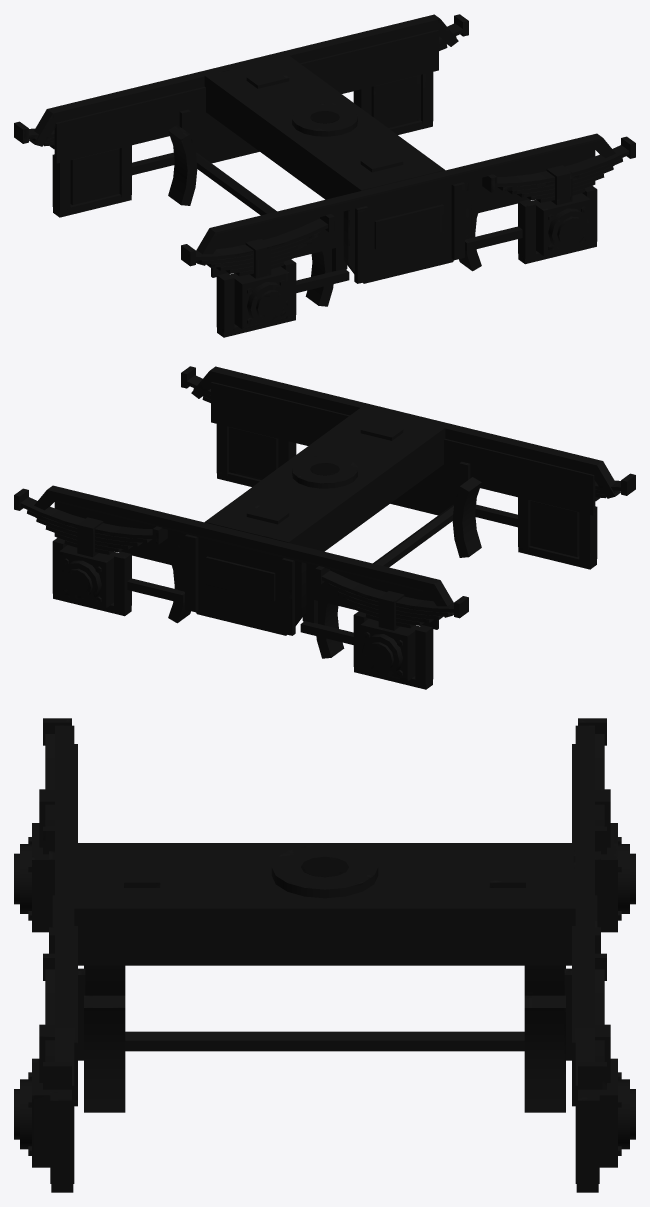
File: bogie_p01.glb
3 renders of one model, top to bottom at view 1: azimuth 30°, elevation 25°; view 2: azimuth 150°, elevation 25°; view 3: azimuth 270°, elevation 25°, orthographic. The views are drawn at different scales.
Parts seen in each view (by area): view 1: BOGIE_A_58450-232_406Ra; view 2: BOGIE_A_58450-232_406Ra; view 3: BOGIE_A_58450-232_406Ra.
Part boxes in pixels (left/top/right/bottom): BOGIE_A_58450-232_406Ra: left=14, top=14, right=635, bottom=337; BOGIE_A_58450-232_406Ra: left=14, top=366, right=635, bottom=689; BOGIE_A_58450-232_406Ra: left=14, top=718, right=635, bottom=1192.
Size of the model in its own units: 3.4 by 0.8527 by 2.57.
1 material, 1 textured.
